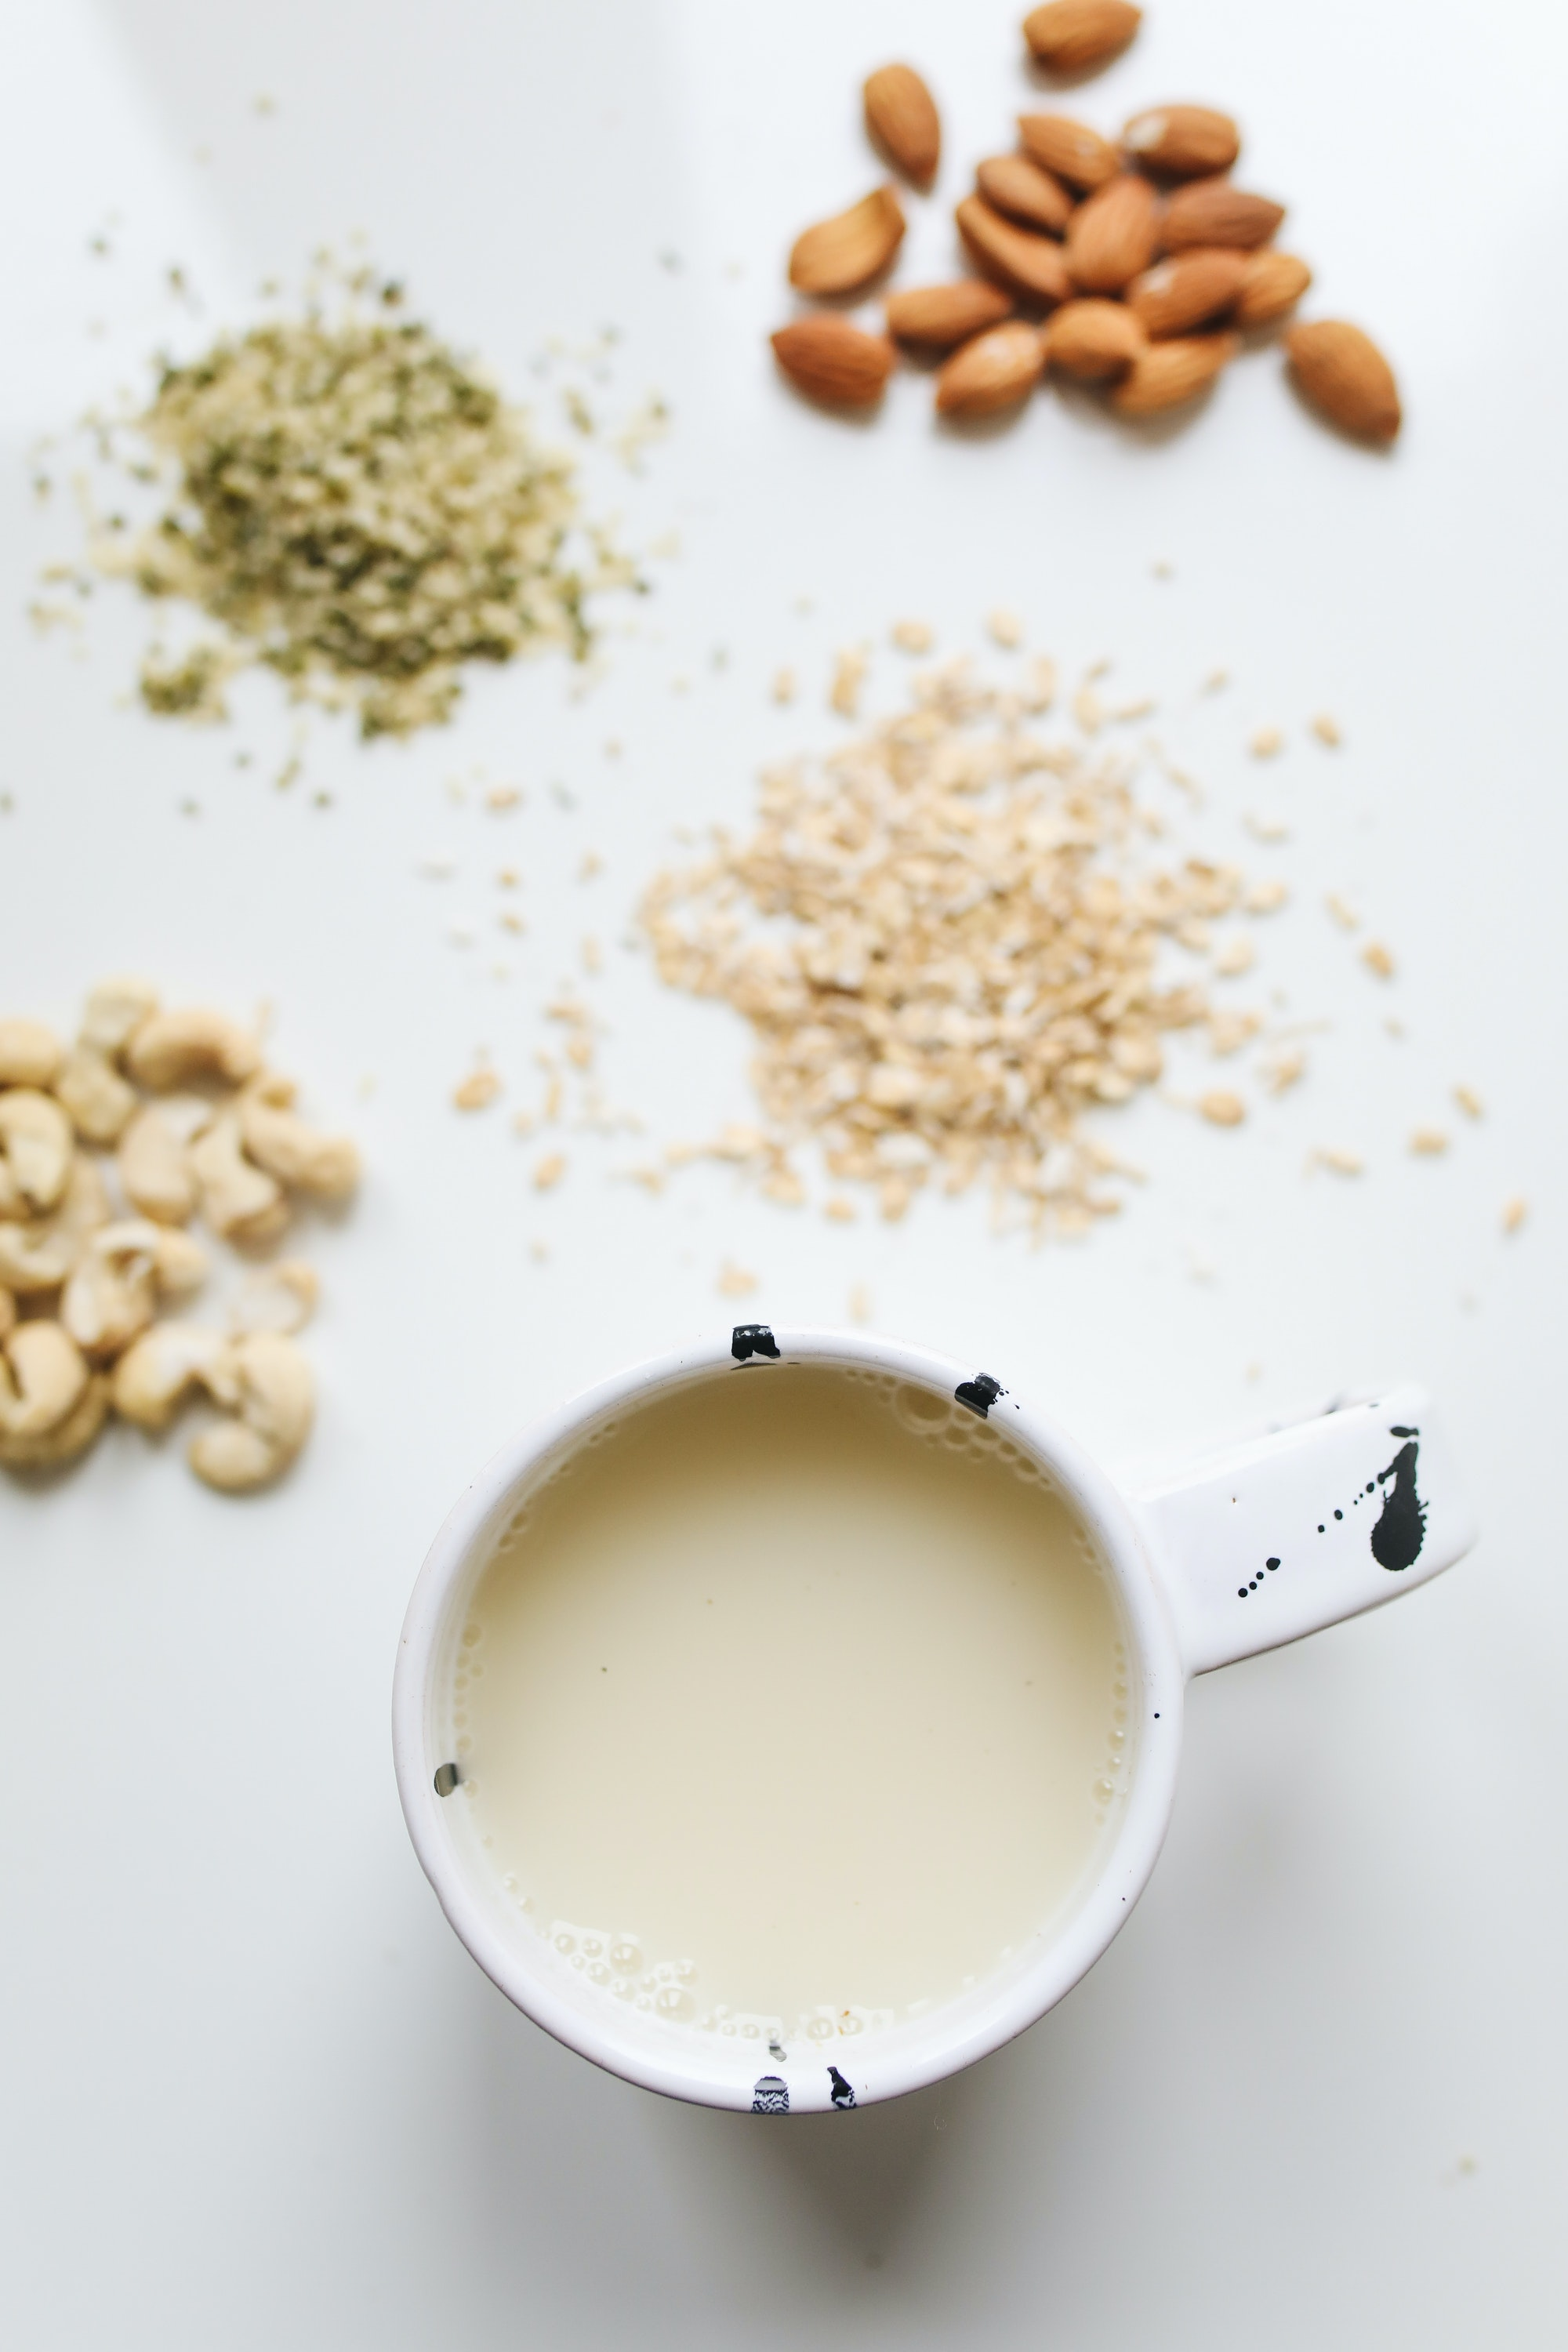cup: (397, 1337, 1463, 2118)
